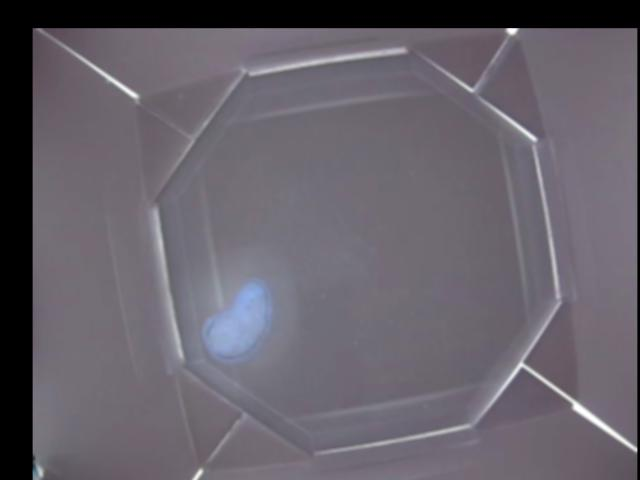Pebble: (202, 282, 268, 364)
